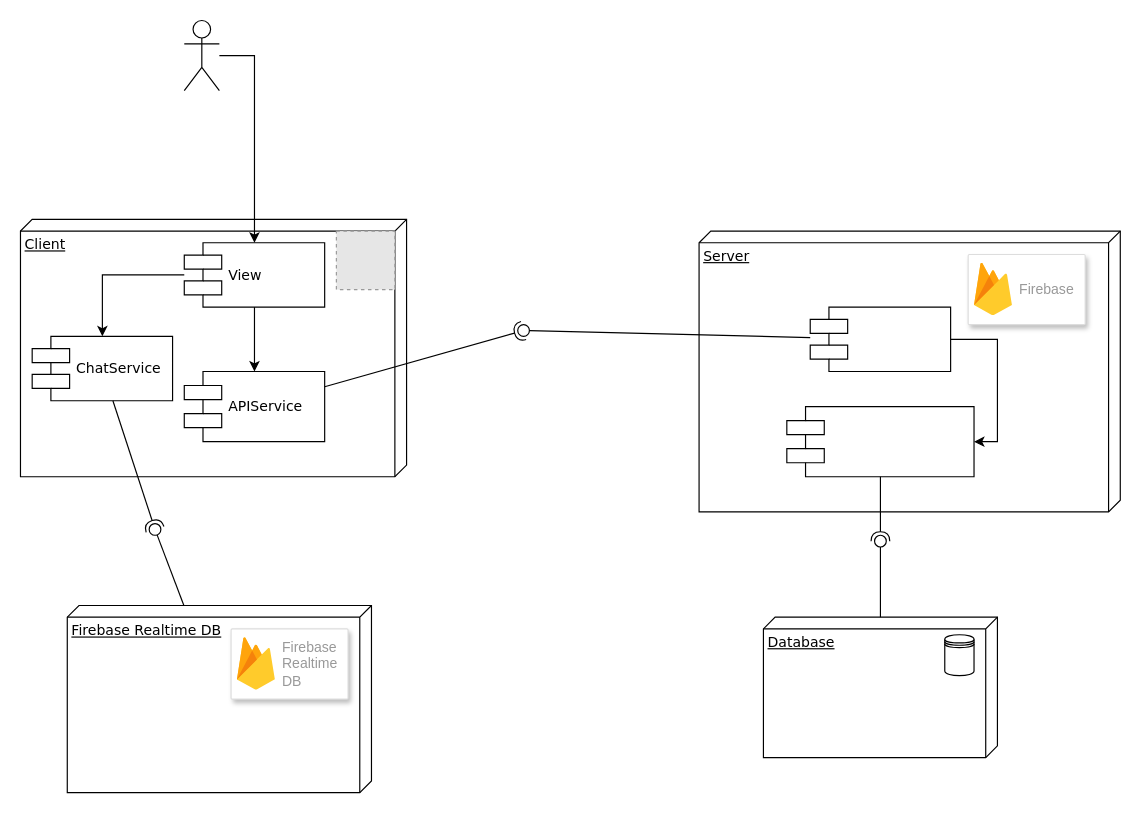
The diagram is 1141 pixels wide and 813 high, and some of its shapes have lost their labels. Grey dashed boxes stand in for pictures. The shapes that lost their labels are listed below. From the top down, each one's centre as x and y in pixels, then its label:
the point at 201,55: User
the point at 880,338: DataAPI
the point at 880,441: ProfileDataService
